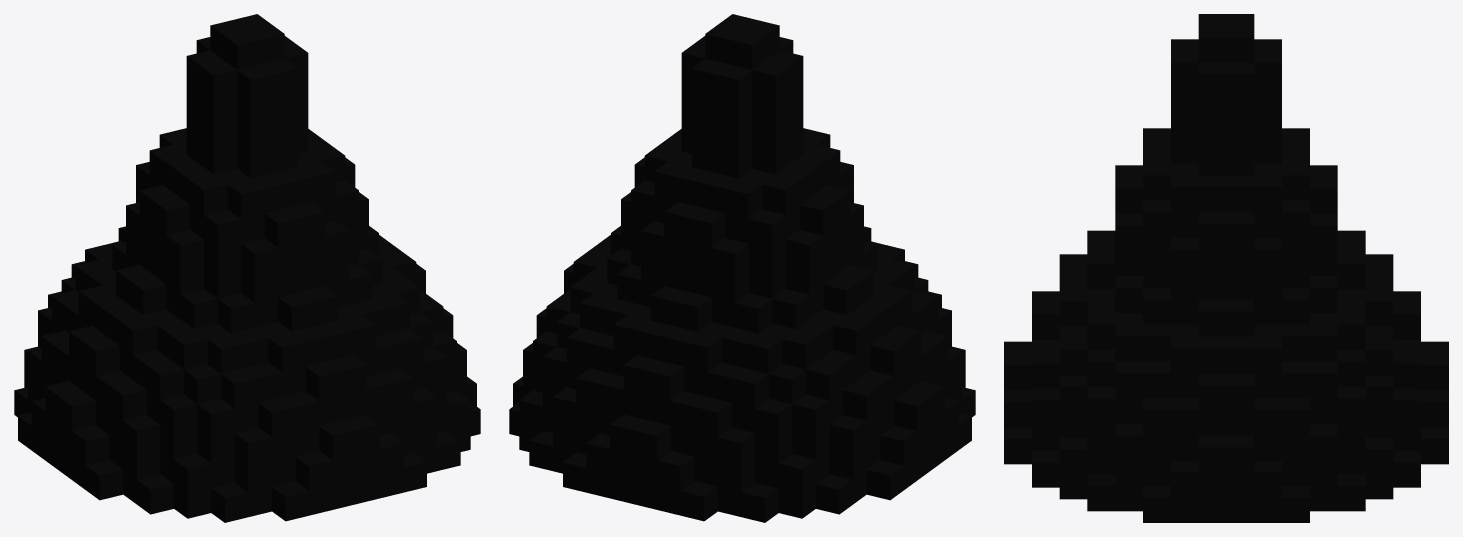
Rendered from spaceantenna1.obj.
The picture shows the model from 3 angles, left to right: view 1: azimuth 30°, elevation 25°; view 2: azimuth 150°, elevation 25°; view 3: azimuth 270°, elevation 25°; orthographic projection. The views are drawn at different scales.
Size of the model in its own units: 1.6 by 1.6 by 1.6.
